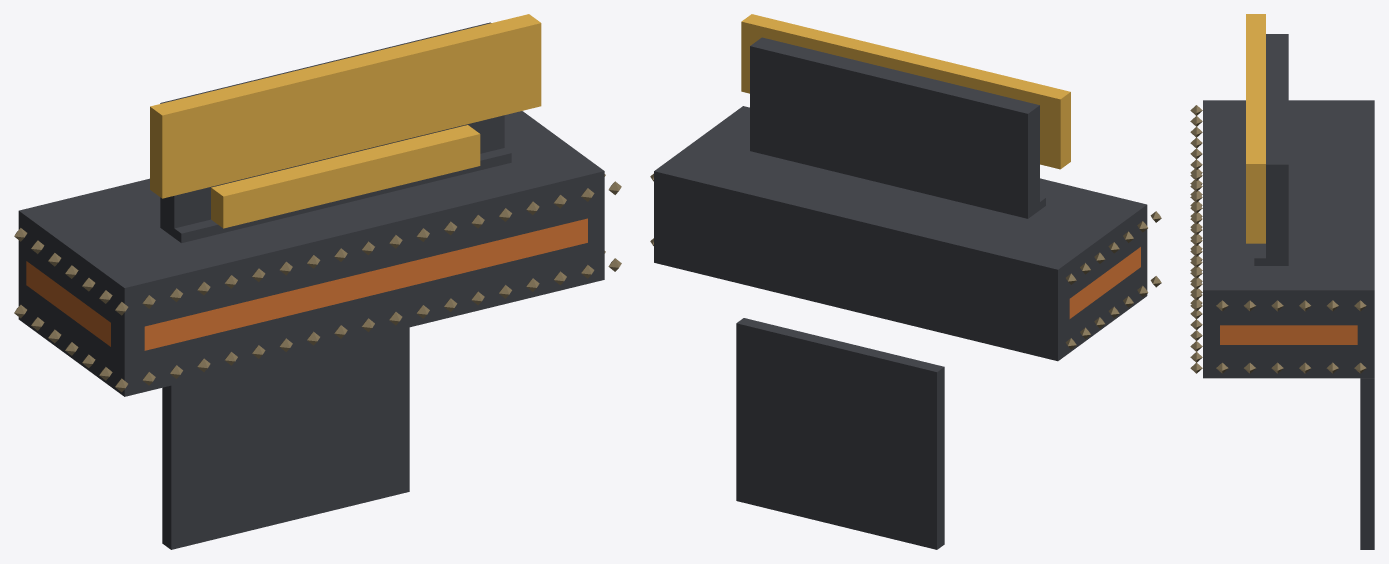
File: nyc-lyric-theatre-marquee.glb
3 renders of one model, left to right at view 1: azimuth 30°, elevation 25°; view 2: azimuth 150°, elevation 25°; view 3: azimuth 270°, elevation 25°, orthographic. The views are drawn at different scales.
Visible parts, largest first — view 1: Lyric Theatre Marquee; view 2: Lyric Theatre Marquee; view 3: Lyric Theatre Marquee.
Boxes of the visible parts, x1,y1,x2,y2 form: Lyric Theatre Marquee: (14,14,621,549); Lyric Theatre Marquee: (650,14,1161,549); Lyric Theatre Marquee: (1190,14,1374,549).
Bounding box in the file's own units: 8.29 × 7.9 × 3.22.
